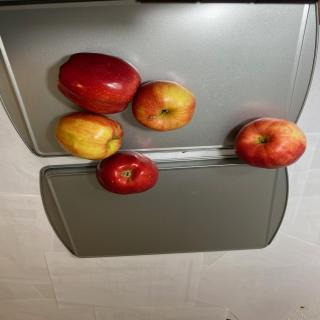Apple: (56, 52, 142, 115), (234, 117, 306, 169), (54, 111, 124, 160), (132, 80, 196, 132), (95, 150, 158, 195)
